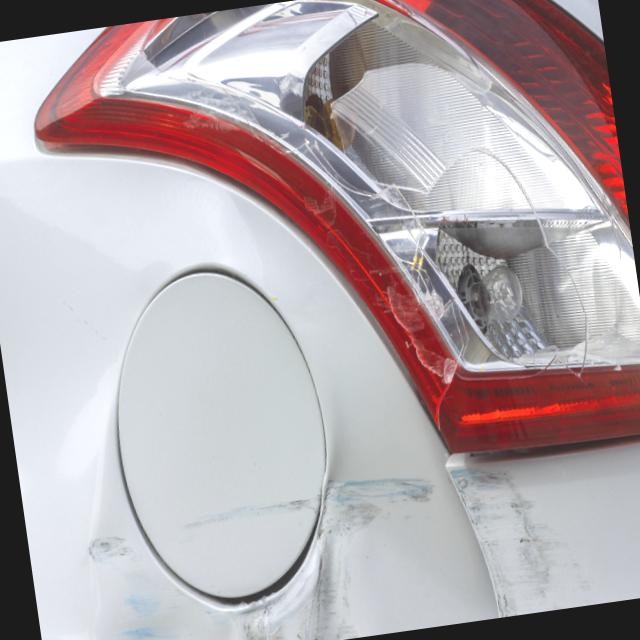Cabossage: (292, 438, 499, 640)
Rayure: (66, 437, 627, 640)
